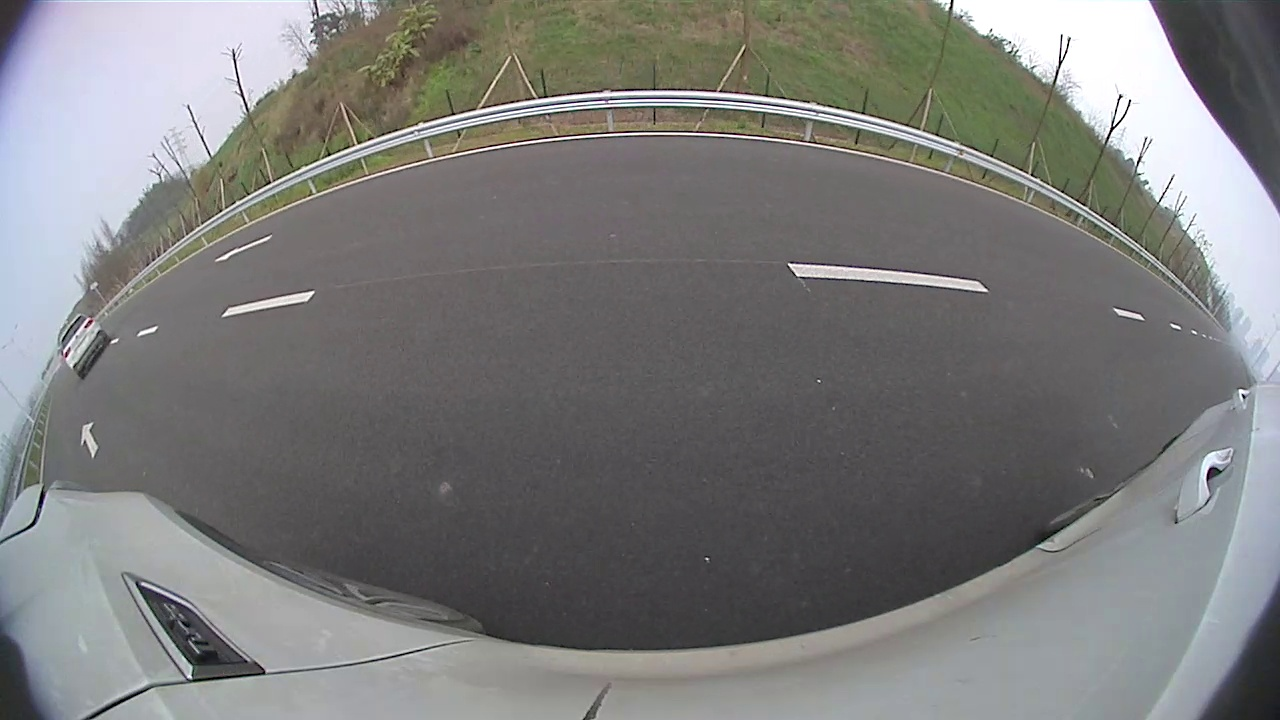car: (704, 148, 781, 198)
front: (705, 172, 714, 191)
rear: (719, 173, 732, 195)
